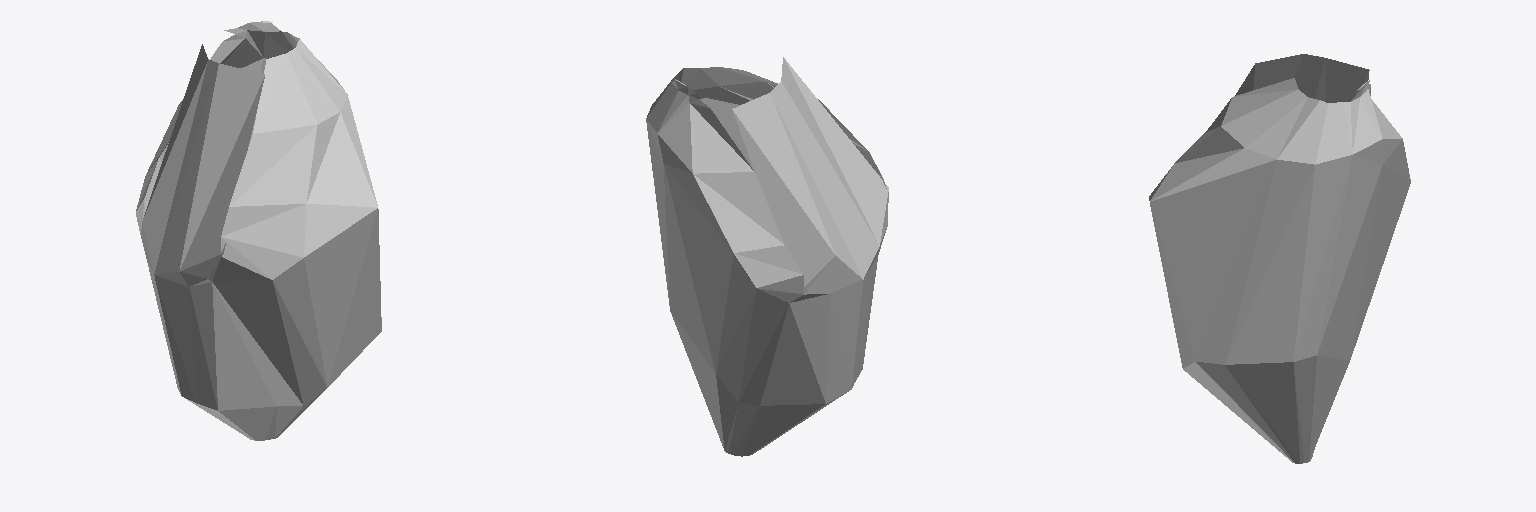
File: piernader.obj
3 renders of one model, left to right at view 1: azimuth 30°, elevation 25°; view 2: azimuth 150°, elevation 25°; view 3: azimuth 270°, elevation 25°, orthographic.
Visible parts, largest first — view 1: piernader_Mesh; view 2: piernader_Mesh; view 3: piernader_Mesh.
Boxes of the visible parts, <box> form: piernader_Mesh: <box>136,21,381,440</box>; piernader_Mesh: <box>646,57,888,456</box>; piernader_Mesh: <box>1149,54,1410,463</box>.
Bounding box in the file's own units: 0.9988 × 1.87 × 1.15.